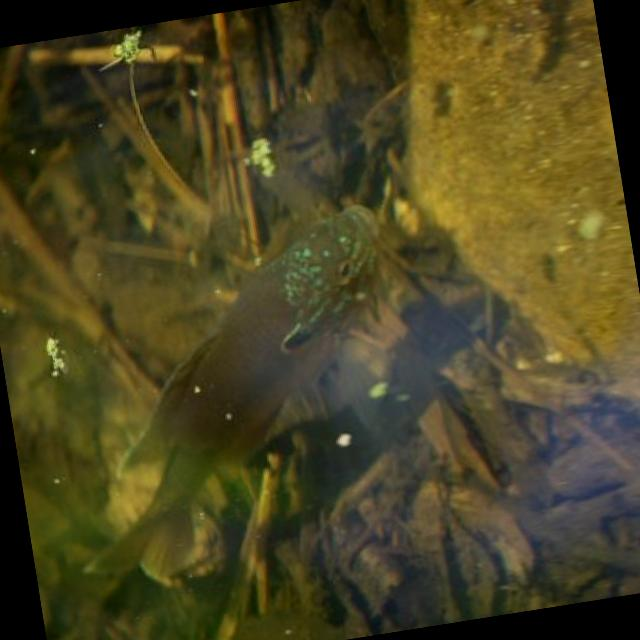Gunes Levregi: (31, 200, 434, 600)
